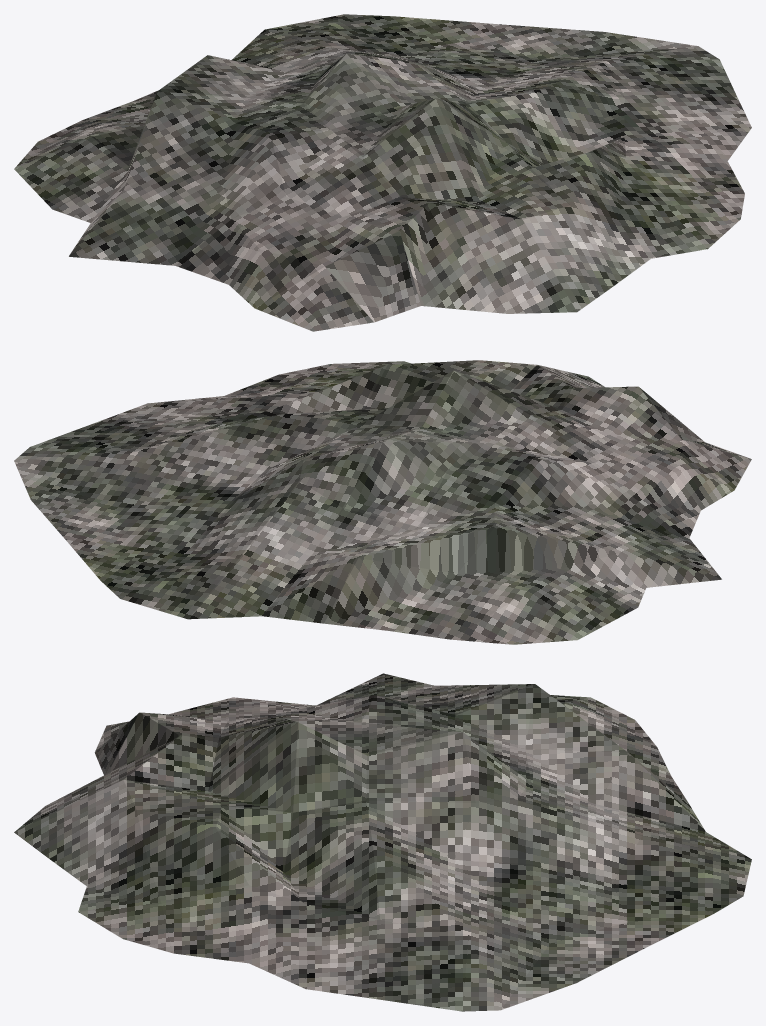
File: RubbishPile.fbx
3 renders of one model, top to bottom at view 1: azimuth 30°, elevation 25°; view 2: azimuth 150°, elevation 25°; view 3: azimuth 270°, elevation 25°, orthographic. The views are drawn at different scales.
Visible parts, largest first — view 1: RubbishPile; view 2: RubbishPile; view 3: RubbishPile.
Part boxes in pixels (x1=…): RubbishPile: x1=14, y1=14, x2=751, y2=331; RubbishPile: x1=14, y1=360, x2=751, y2=644; RubbishPile: x1=14, y1=673, x2=751, y2=1011.
Size of the model in its own units: 320 by 48.72 by 295.
1 material, 1 textured.
